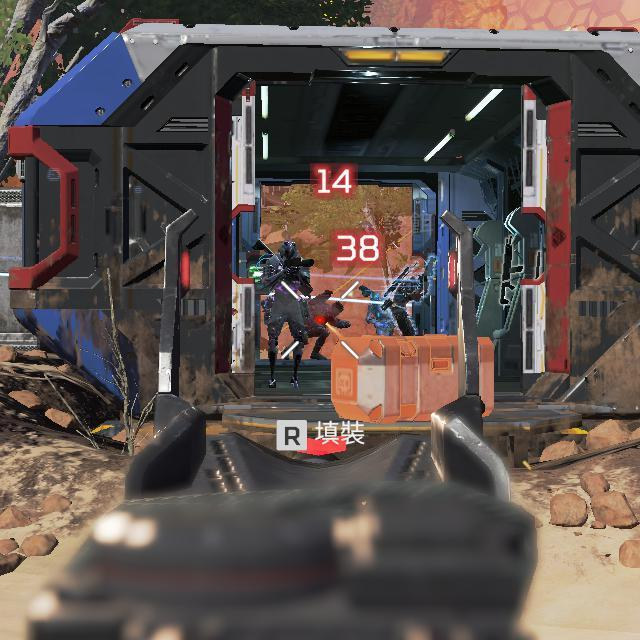avatar: (258, 236, 316, 393), (307, 289, 351, 362), (389, 272, 430, 337), (364, 291, 398, 337)
